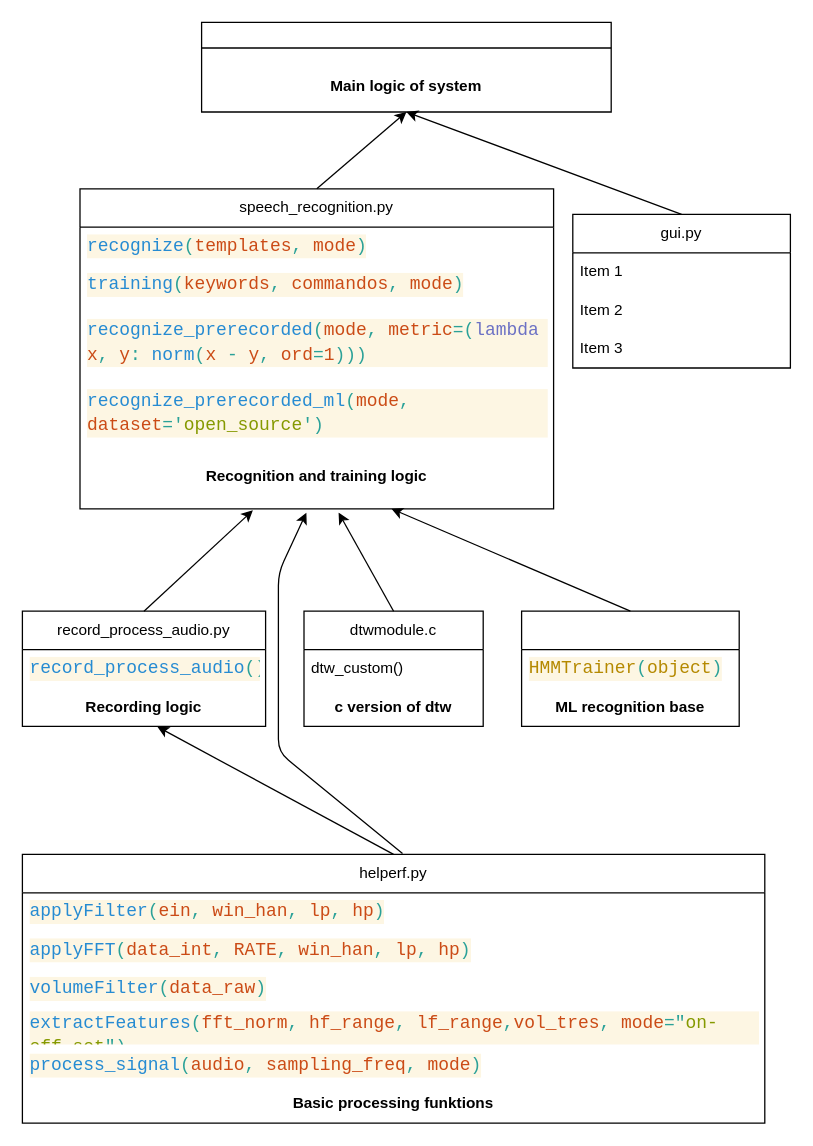
Some shapes in this 813 by 1146 pixel diagram are drawn without their labels. Here are the shapes that lost their labels. From the top down, the box of each, then its label:
(200, 21, 611, 112): main.py
(520, 610, 739, 726): speech_recognition_ml.py
